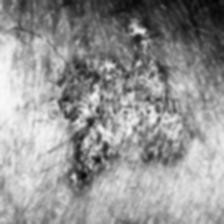Potentially Malignant Skin Tumors: (60, 16, 180, 94), (56, 118, 179, 174)
